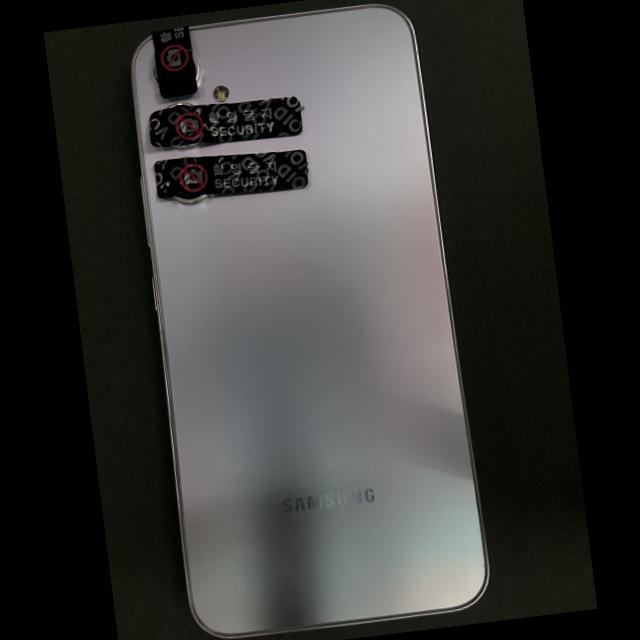lens: (174, 195, 208, 203), (165, 102, 192, 109), (154, 61, 160, 87)
phone: (131, 6, 488, 636)
sticker: (148, 96, 302, 147), (154, 149, 308, 198), (151, 25, 197, 98)
